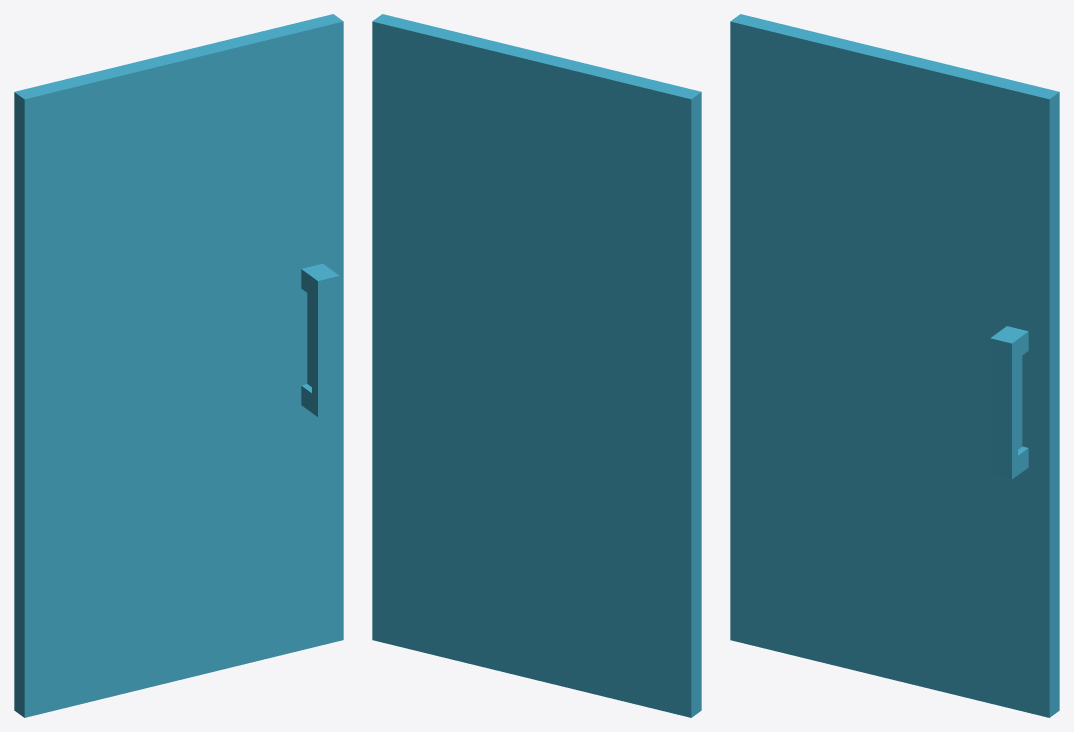
File: Itr_Shelf1_Door_Left_05.FBX
The picture shows the model from 3 angles, left to right: view 1: azimuth 30°, elevation 25°; view 2: azimuth 150°, elevation 25°; view 3: azimuth 330°, elevation 25°; orthographic projection.
Visible parts, largest first — view 1: Itr_Shelf1_Door_Left_05; view 2: Itr_Shelf1_Door_Left_05; view 3: Itr_Shelf1_Door_Left_05.
Boxes of the visible parts, x1,y1,x2,y2 form: Itr_Shelf1_Door_Left_05: (14, 14, 343, 717); Itr_Shelf1_Door_Left_05: (372, 14, 701, 717); Itr_Shelf1_Door_Left_05: (730, 14, 1059, 717).
Bounding box in the file's own units: 22.1 × 40.92 × 3.23.
